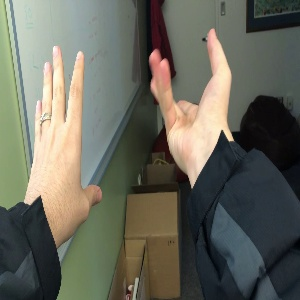hand: (27, 45, 102, 228), (150, 29, 227, 160)
